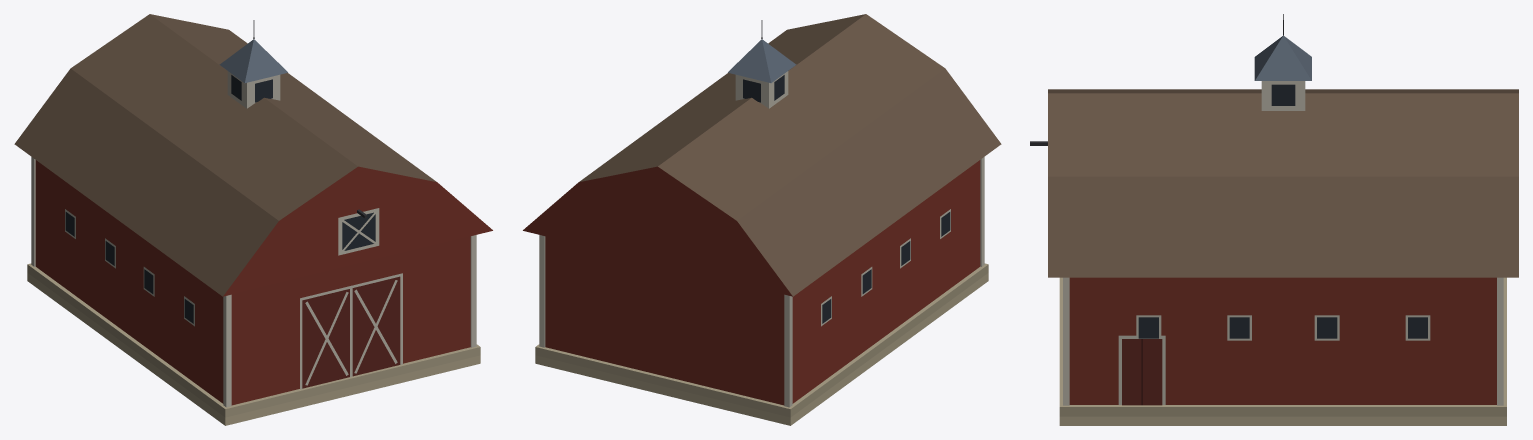
The model's file is barn.glb.
The picture shows the model from 3 angles, left to right: view 1: azimuth 30°, elevation 25°; view 2: azimuth 150°, elevation 25°; view 3: azimuth 270°, elevation 25°; orthographic projection. The views are drawn at different scales.
Parts seen in each view (by area): view 1: barn; view 2: barn; view 3: barn.
Part boxes in pixels (x1,y1,x2,y2): barn: [14, 14, 492, 425]; barn: [523, 14, 1001, 425]; barn: [1030, 14, 1518, 425].
Size of the model in its own units: 10.5 by 11.2 by 14.53.
